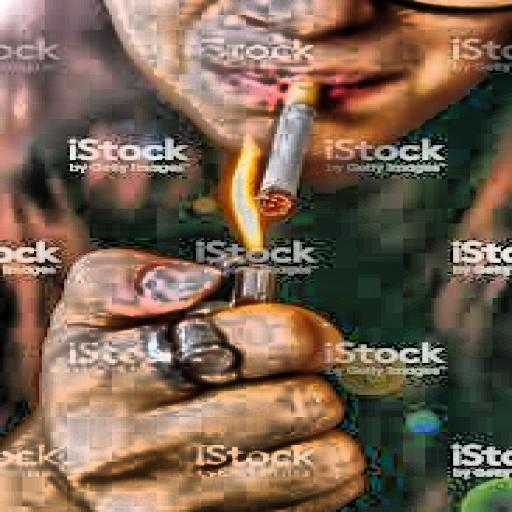fire: (213, 130, 299, 259)
